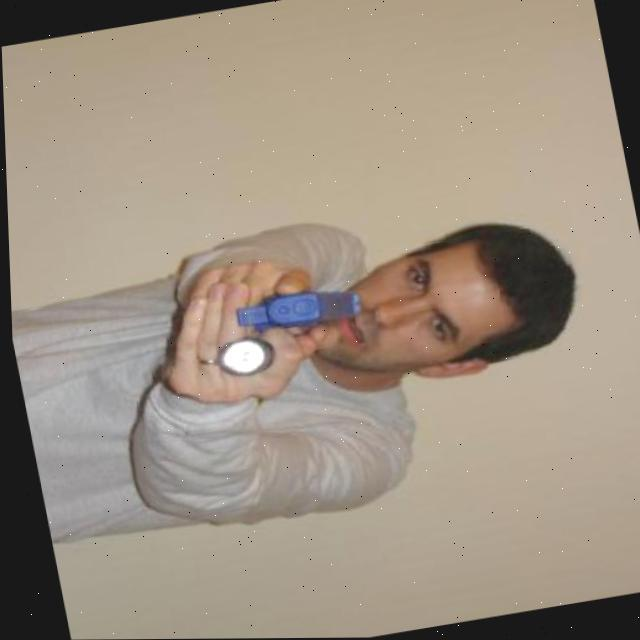gun: (228, 280, 368, 341)
